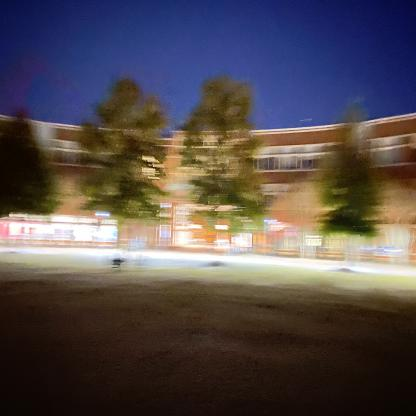eb2: (3, 110, 415, 279)
